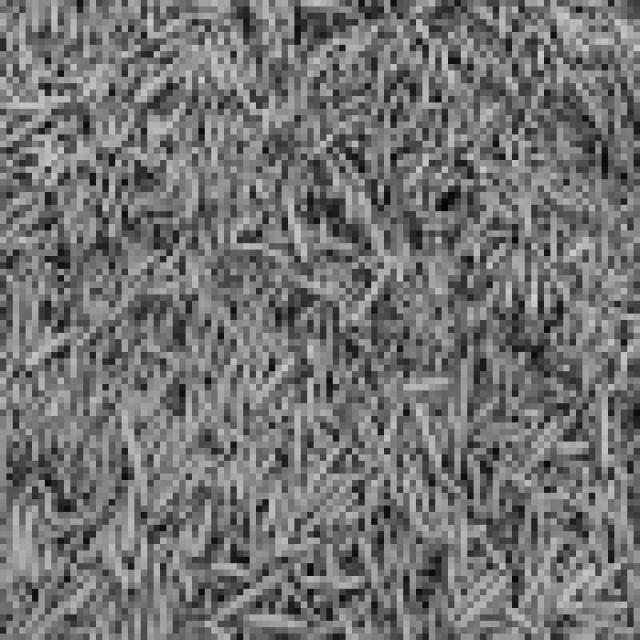Stale_Carrot: (254, 56, 377, 192), (297, 377, 409, 493), (454, 217, 554, 331)
